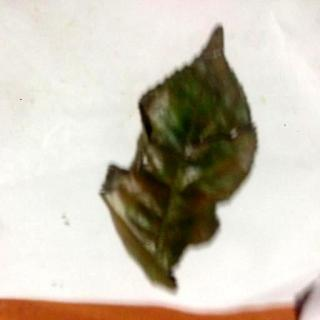Red Leaf Spot: (102, 25, 257, 291)
